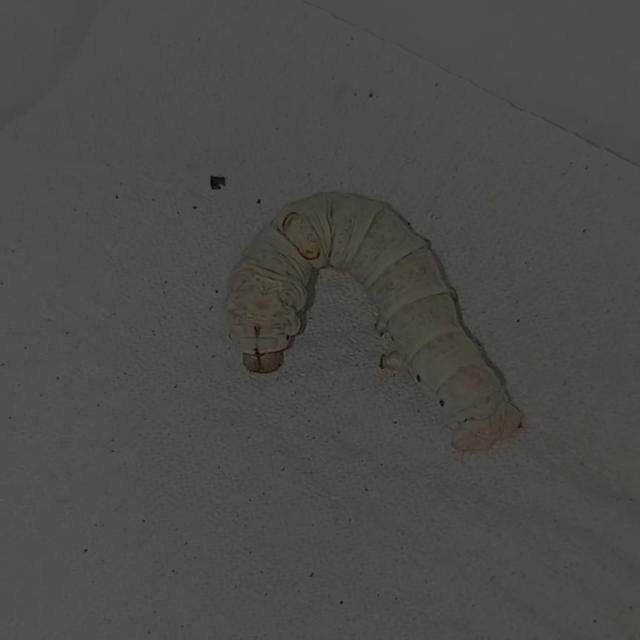Healthy: (215, 179, 531, 462)
